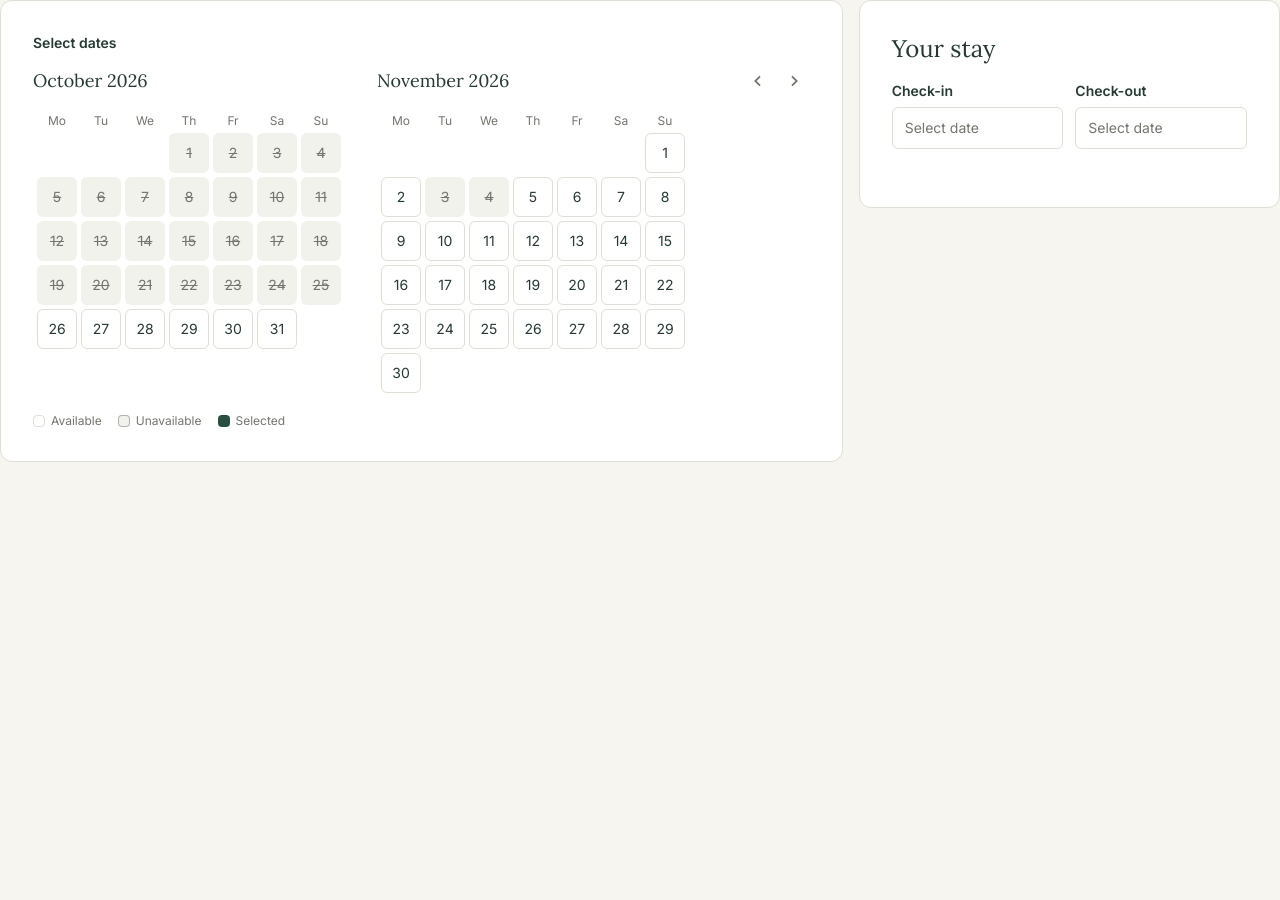
BookingSection › books the stay and shows the booking number
The image size is (1280, 900).
Click the button named "Sunday, November 8th, 2026" at (665, 197), box [645,177,685,217]
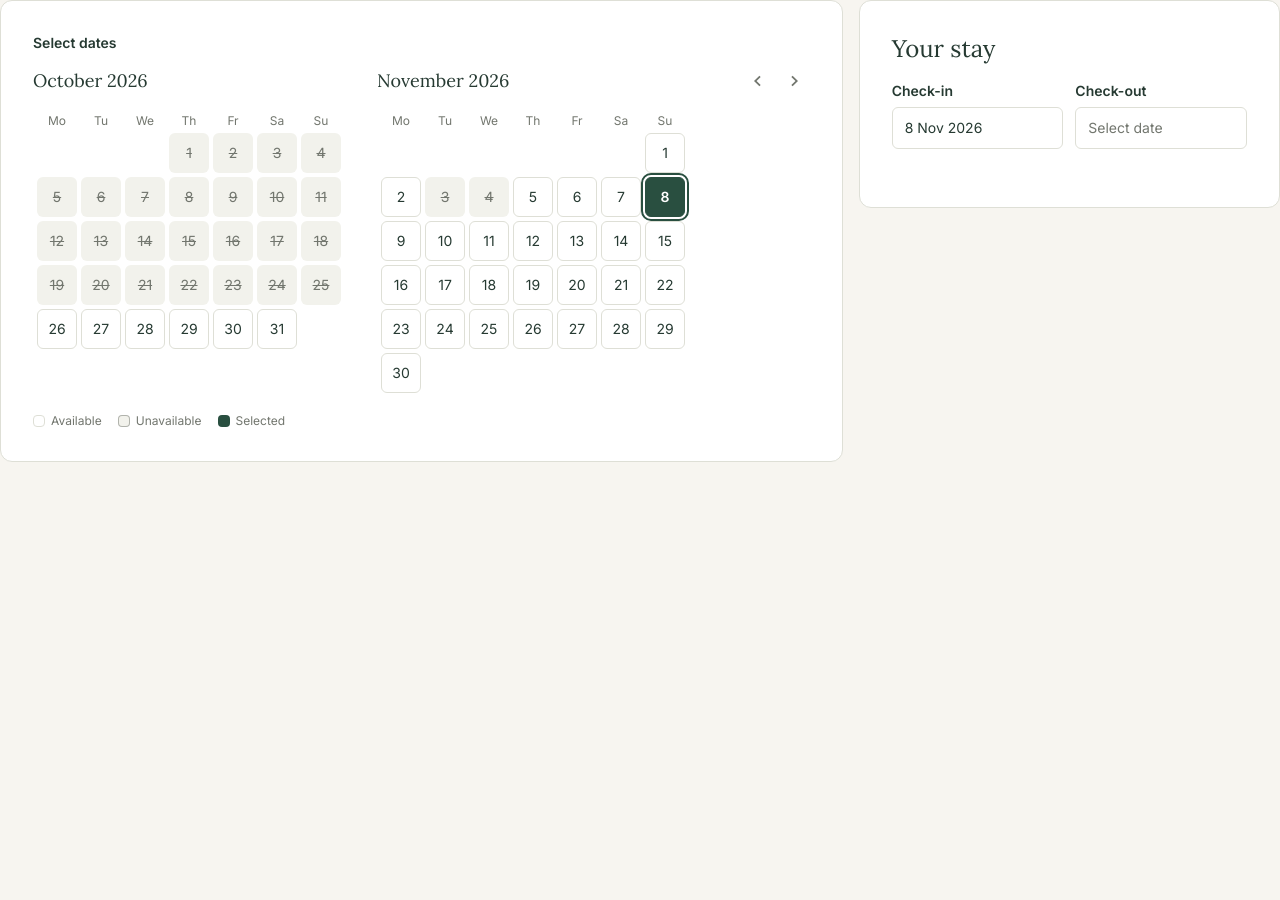
Click the button "11" below "November 2026" at (489, 241), box [469,221,509,261]
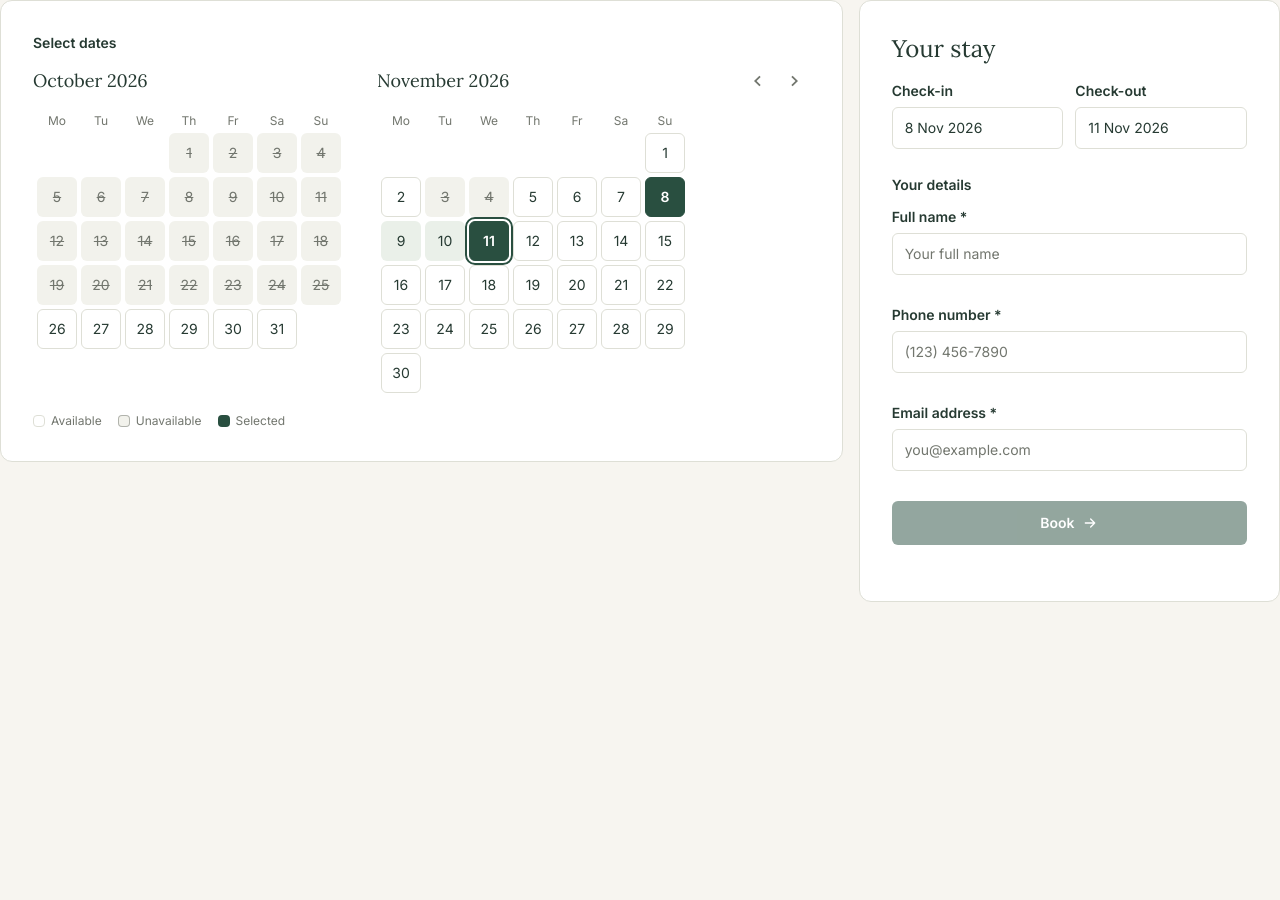
Type "Maya Chen" into the field labelled "Full name" at (1069, 254), box [892,233,1247,275]
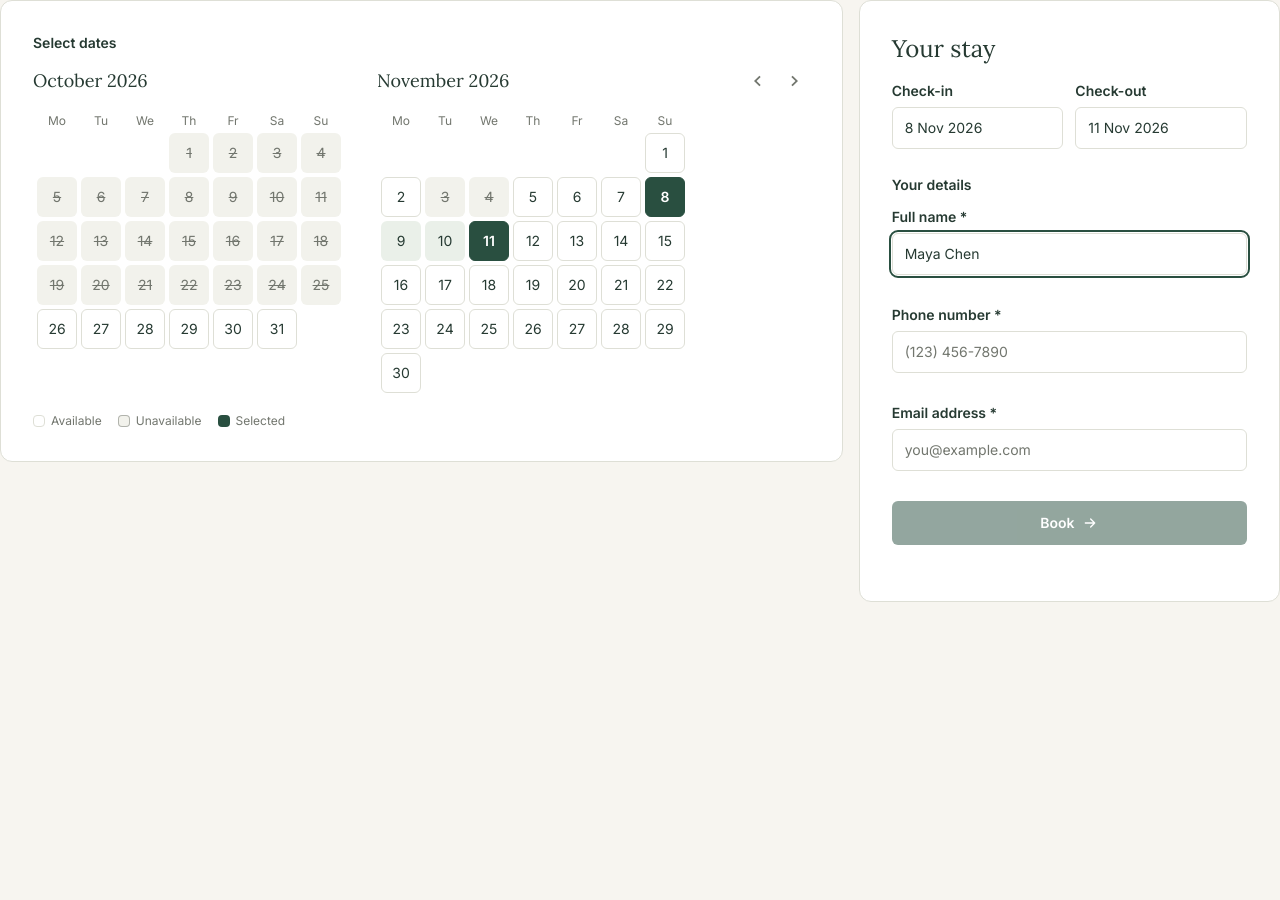
Type "5551234567" into the field labelled "Phone number" at (1069, 352), box [892,331,1247,373]
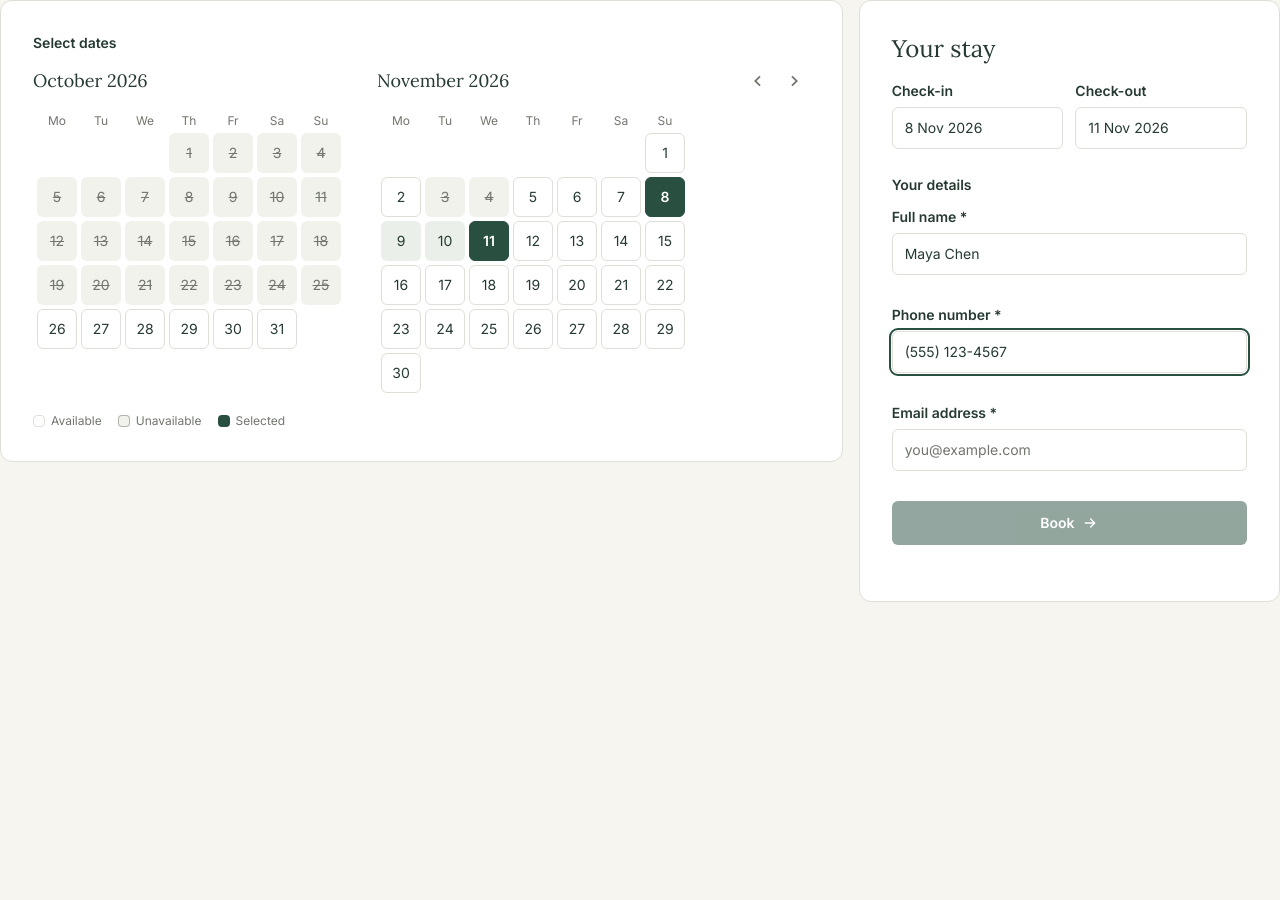
Type "maya.chen@example.com" into the field labelled "Email address" at (1069, 450), box [892,429,1247,471]
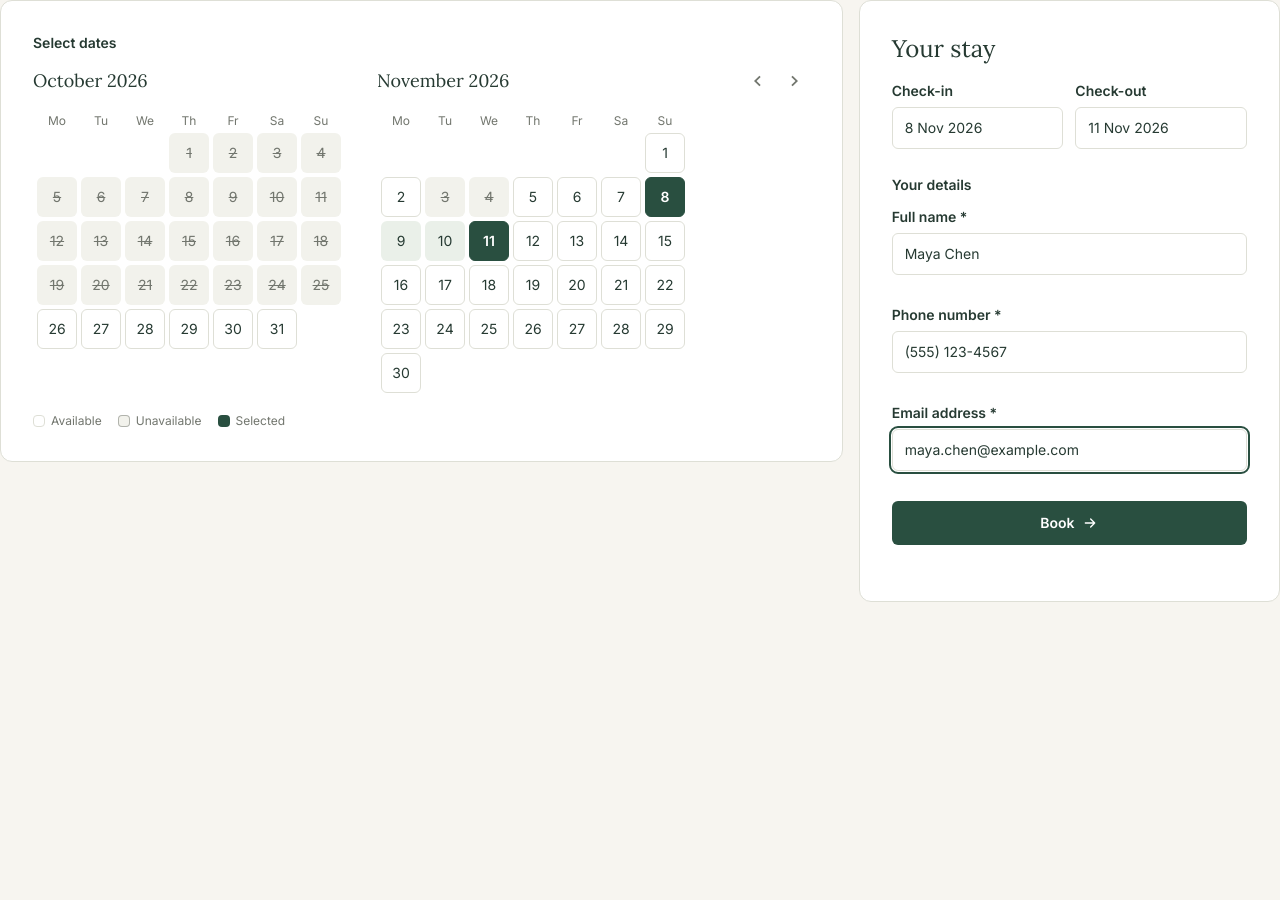
Click the button "Book" at (1069, 523), box [892,501,1247,545]
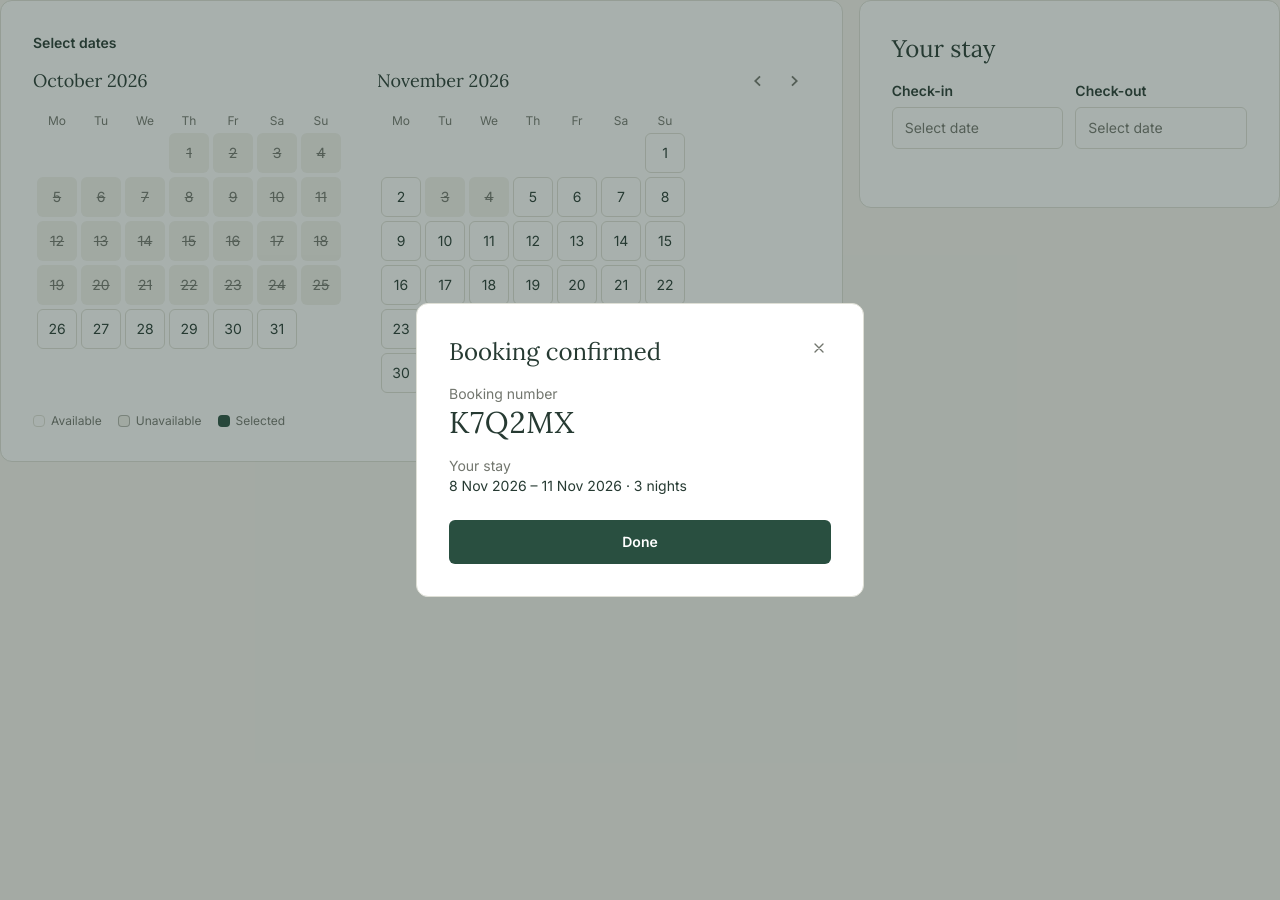
Expected: the dialog "Booking confirmed" shows "K7Q2MX", [449,403,575,441]
